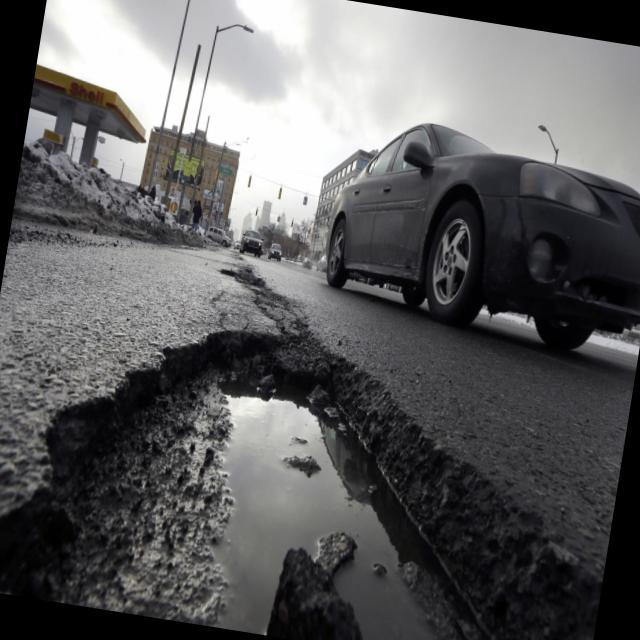Pothole: (0, 273, 636, 640)
